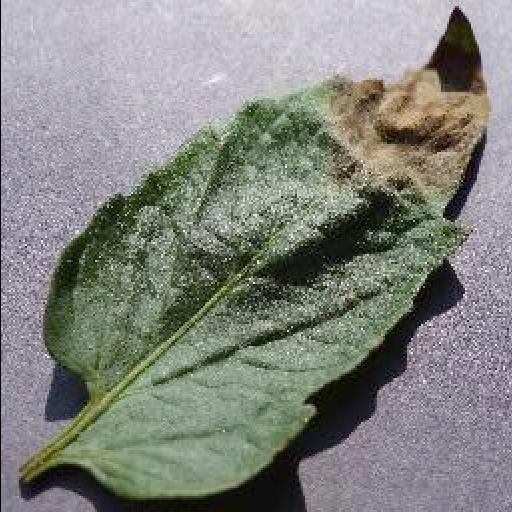disease_tomato: (42, 5, 494, 503)
